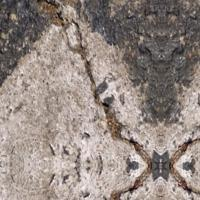crack: (47, 3, 142, 177)
